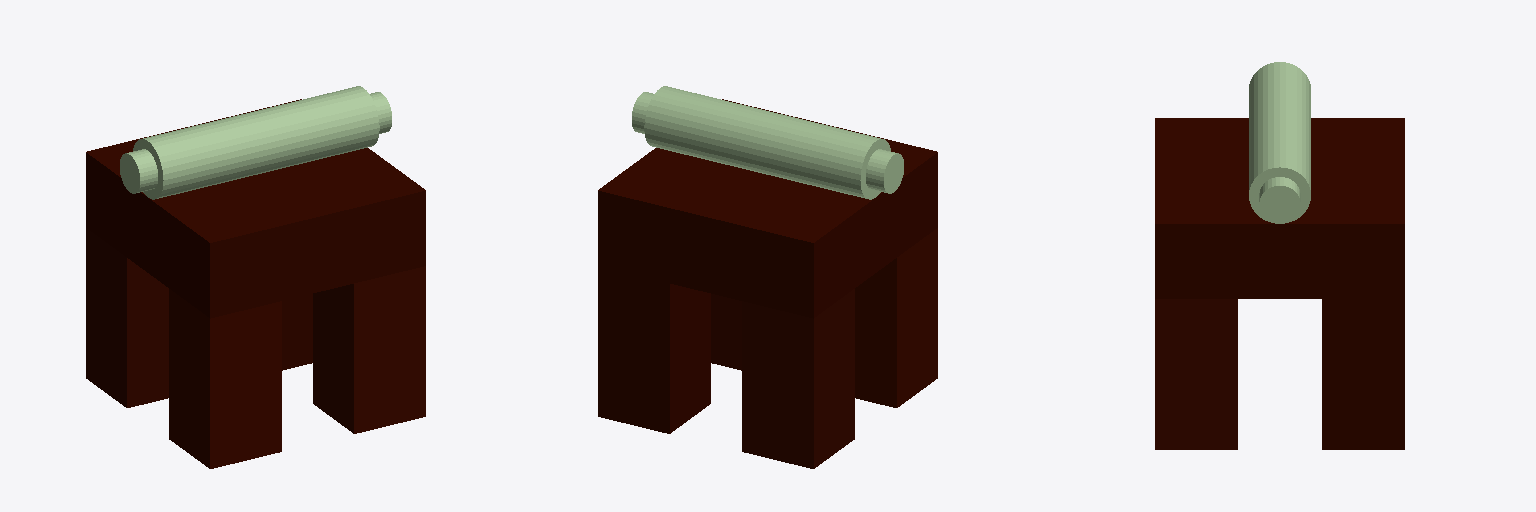
Rendered from Table_Best.obj.
3 renders of one model, left to right at view 1: azimuth 30°, elevation 25°; view 2: azimuth 150°, elevation 25°; view 3: azimuth 270°, elevation 25°, orthographic.
Visible parts, largest first — view 1: Cube.001, Cube.004_Cube.003, Cube.005_Cube.004, Cylinder, Cube.003_Cube.002, Cube.002_Cube.001, Cylinder.001; view 2: Cube.001, Cube.003_Cube.002, Cube.002_Cube.001, Cylinder, Cube.004_Cube.003, Cube.005_Cube.004, Cylinder.001; view 3: Cube.001, Cube.002_Cube.001, Cube.005_Cube.004, Cylinder, Cylinder.001.
Boxes of the visible parts, x1=… form: Cube.001: x1=86, y1=99, x2=425, y2=318; Cube.004_Cube.003: x1=169, y1=289, x2=281, y2=468; Cube.005_Cube.004: x1=313, y1=266, x2=425, y2=433; Cylinder: x1=133, y1=86, x2=379, y2=199; Cube.003_Cube.002: x1=86, y1=228, x2=168, y2=407; Cube.002_Cube.001: x1=282, y1=294, x2=312, y2=370; Cylinder.001: x1=120, y1=92, x2=391, y2=193; Cube.001: x1=598, y1=99, x2=937, y2=318; Cube.003_Cube.002: x1=742, y1=289, x2=854, y2=468; Cube.002_Cube.001: x1=598, y1=266, x2=710, y2=433; Cylinder: x1=644, y1=86, x2=890, y2=199; Cube.004_Cube.003: x1=855, y1=228, x2=937, y2=407; Cube.005_Cube.004: x1=711, y1=294, x2=741, y2=370; Cylinder.001: x1=632, y1=92, x2=903, y2=193; Cube.001: x1=1155, y1=118, x2=1404, y2=298; Cube.002_Cube.001: x1=1322, y1=299, x2=1404, y2=449; Cube.005_Cube.004: x1=1155, y1=299, x2=1237, y2=449; Cylinder: x1=1249, y1=62, x2=1310, y2=223; Cylinder.001: x1=1259, y1=177, x2=1300, y2=222.
Size of the model in its own units: 3.5 by 3.75 by 3.